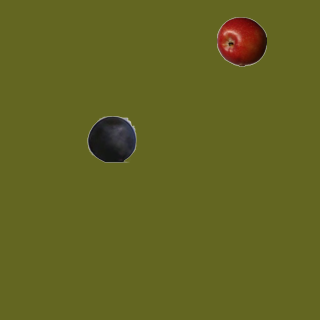Apple Braeburn: (216, 16, 266, 66)
Grape Blue: (86, 113, 136, 163)
